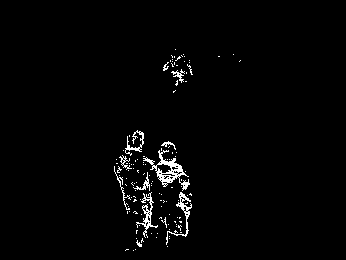person: (116, 129, 156, 251), (155, 139, 190, 250), (163, 44, 194, 95)
